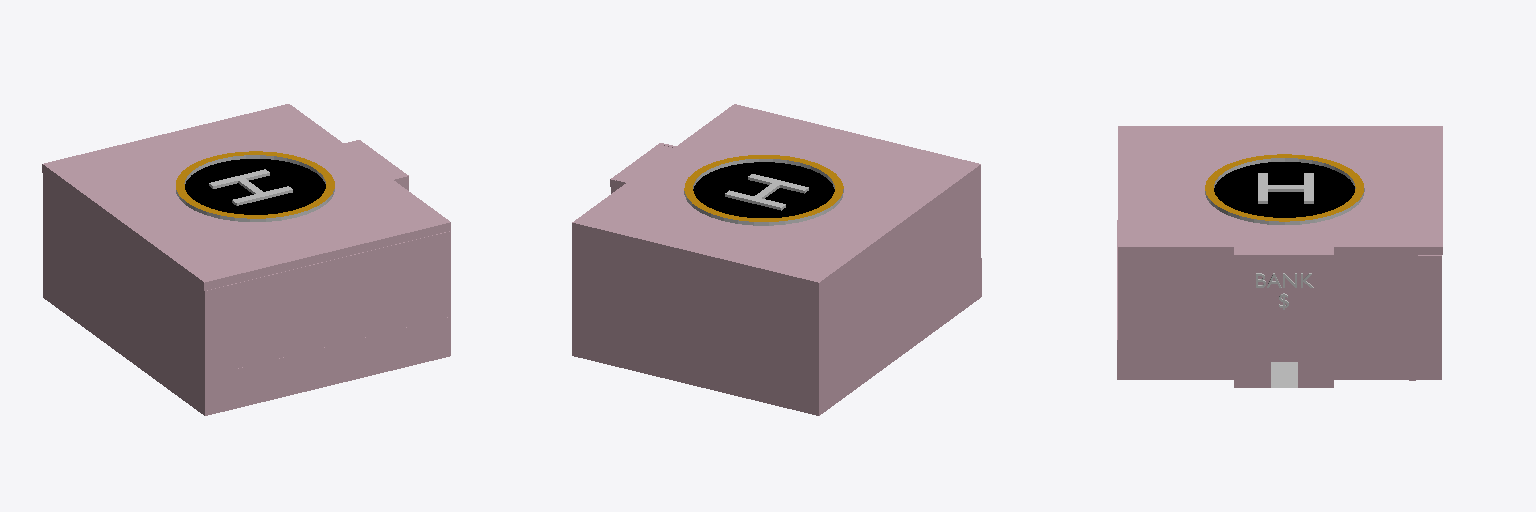
The model's file is Bank.obj.
3 renders of one model, left to right at view 1: azimuth 30°, elevation 25°; view 2: azimuth 150°, elevation 25°; view 3: azimuth 270°, elevation 25°, orthographic.
Visible parts, largest first — view 1: Walls_Cube.010, Roof_Cube.017, Helipad_Circle, Text_Text.003; view 2: Walls_Cube.010, Roof_Cube.017, Helipad_Circle, Text_Text.003; view 3: Walls_Cube.010, Roof_Cube.017, Helipad_Circle, Text_Text.003.
Boxes of the visible parts, box(x1,y1,x2,y2) form: Walls_Cube.010: box(43, 140, 450, 415); Roof_Cube.017: box(42, 104, 450, 290); Helipad_Circle: box(176, 151, 334, 221); Text_Text.003: box(209, 169, 292, 205); Walls_Cube.010: box(572, 143, 981, 415); Roof_Cube.017: box(572, 104, 980, 290); Helipad_Circle: box(684, 155, 843, 225); Text_Text.003: box(725, 174, 808, 210); Walls_Cube.010: box(1117, 220, 1441, 387); Roof_Cube.017: box(1118, 126, 1442, 254); Helipad_Circle: box(1205, 154, 1364, 224); Text_Text.003: box(1258, 173, 1313, 203).
Bounding box in the file's own units: 6.4 × 3.18 × 6.81.